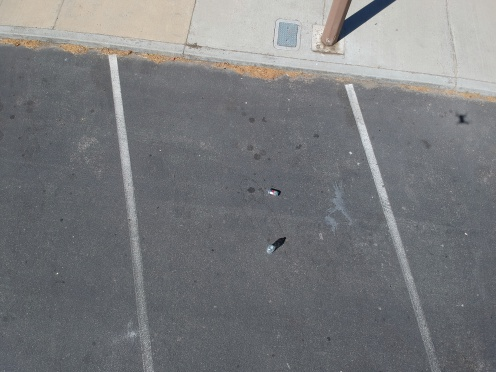bottle: (263, 243, 277, 256)
can: (262, 185, 282, 199)
